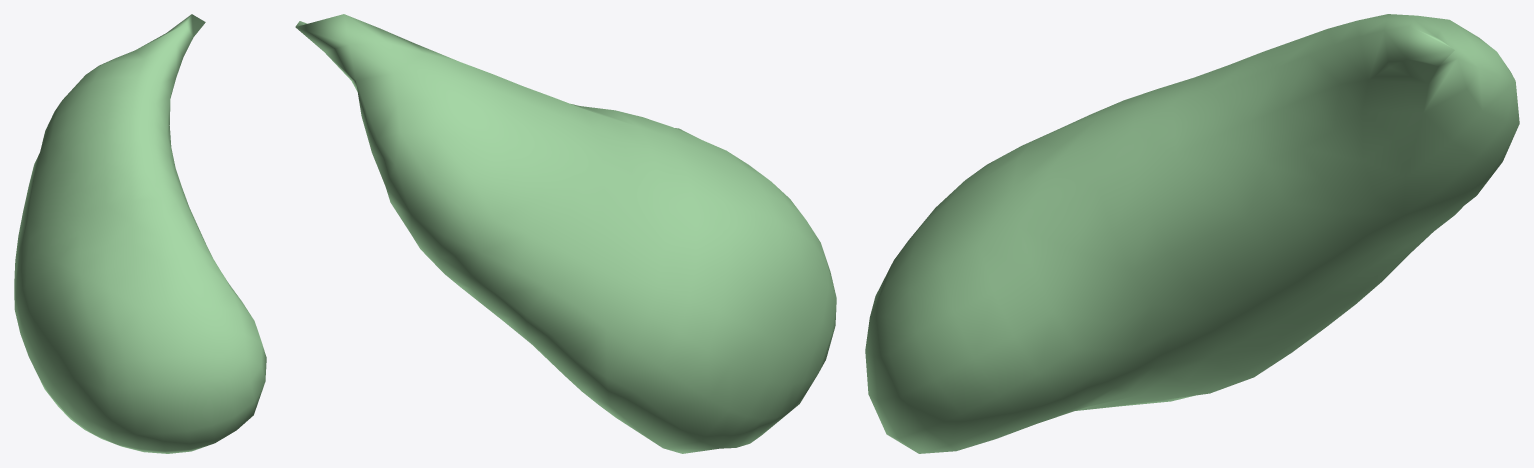
The model's file is cistifellea-test.glb.
The picture shows the model from 3 angles, left to right: view 1: azimuth 30°, elevation 25°; view 2: azimuth 150°, elevation 25°; view 3: azimuth 270°, elevation 25°; orthographic projection. The views are drawn at different scales.
Parts seen in each view (by area): view 1: Gallbladder; view 2: Gallbladder; view 3: Gallbladder.
Part boxes in pixels (left/top/right/bottom): Gallbladder: left=14, top=14, right=266, bottom=453; Gallbladder: left=295, top=14, right=836, bottom=453; Gallbladder: left=865, top=14, right=1519, bottom=453.
Bounding box in the file's own units: 0.0362 × 0.0435 × 0.0483.
